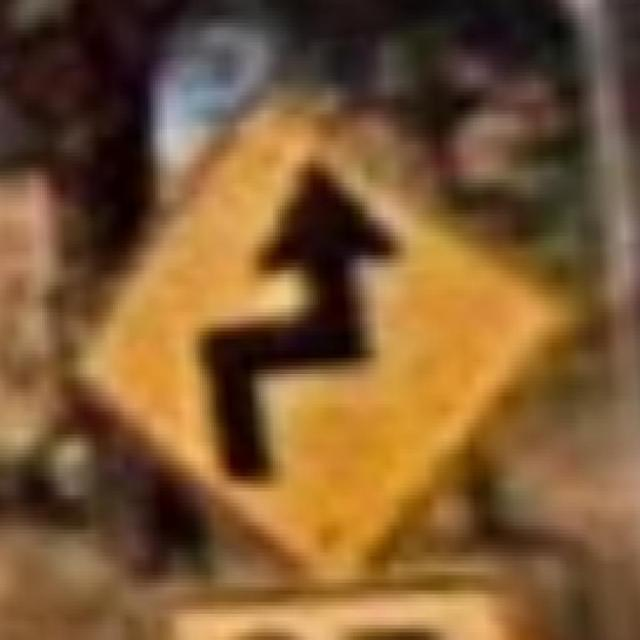Tikungan Ganda Pertama Ke Kanan: (63, 72, 558, 587)
